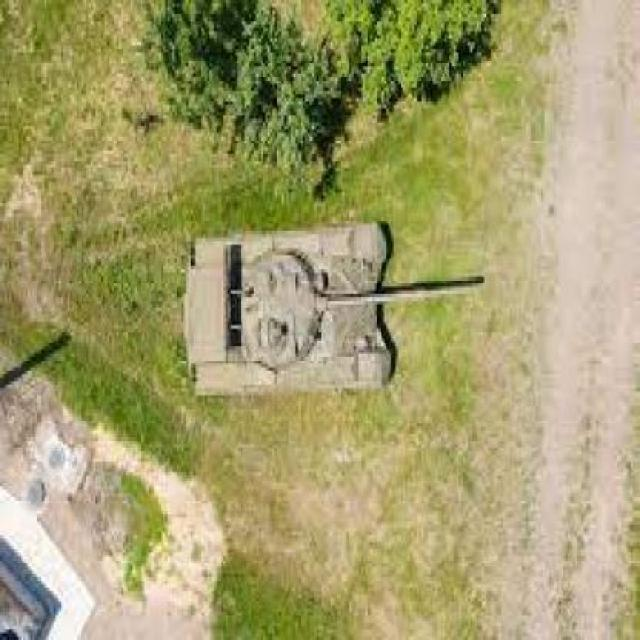Tanks: (176, 219, 490, 393)
